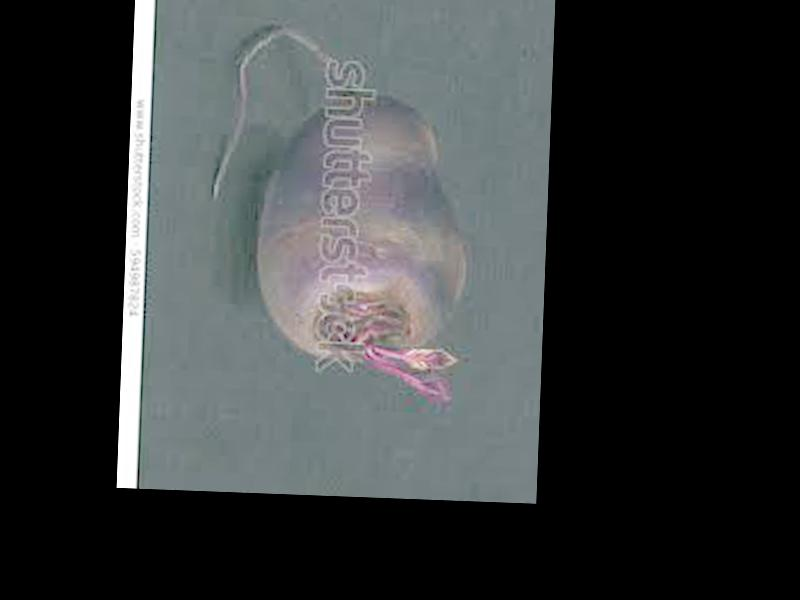Beet: (205, 26, 476, 410)
